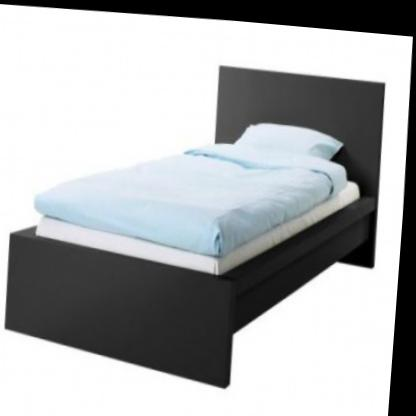Bed: (2, 44, 392, 398)
